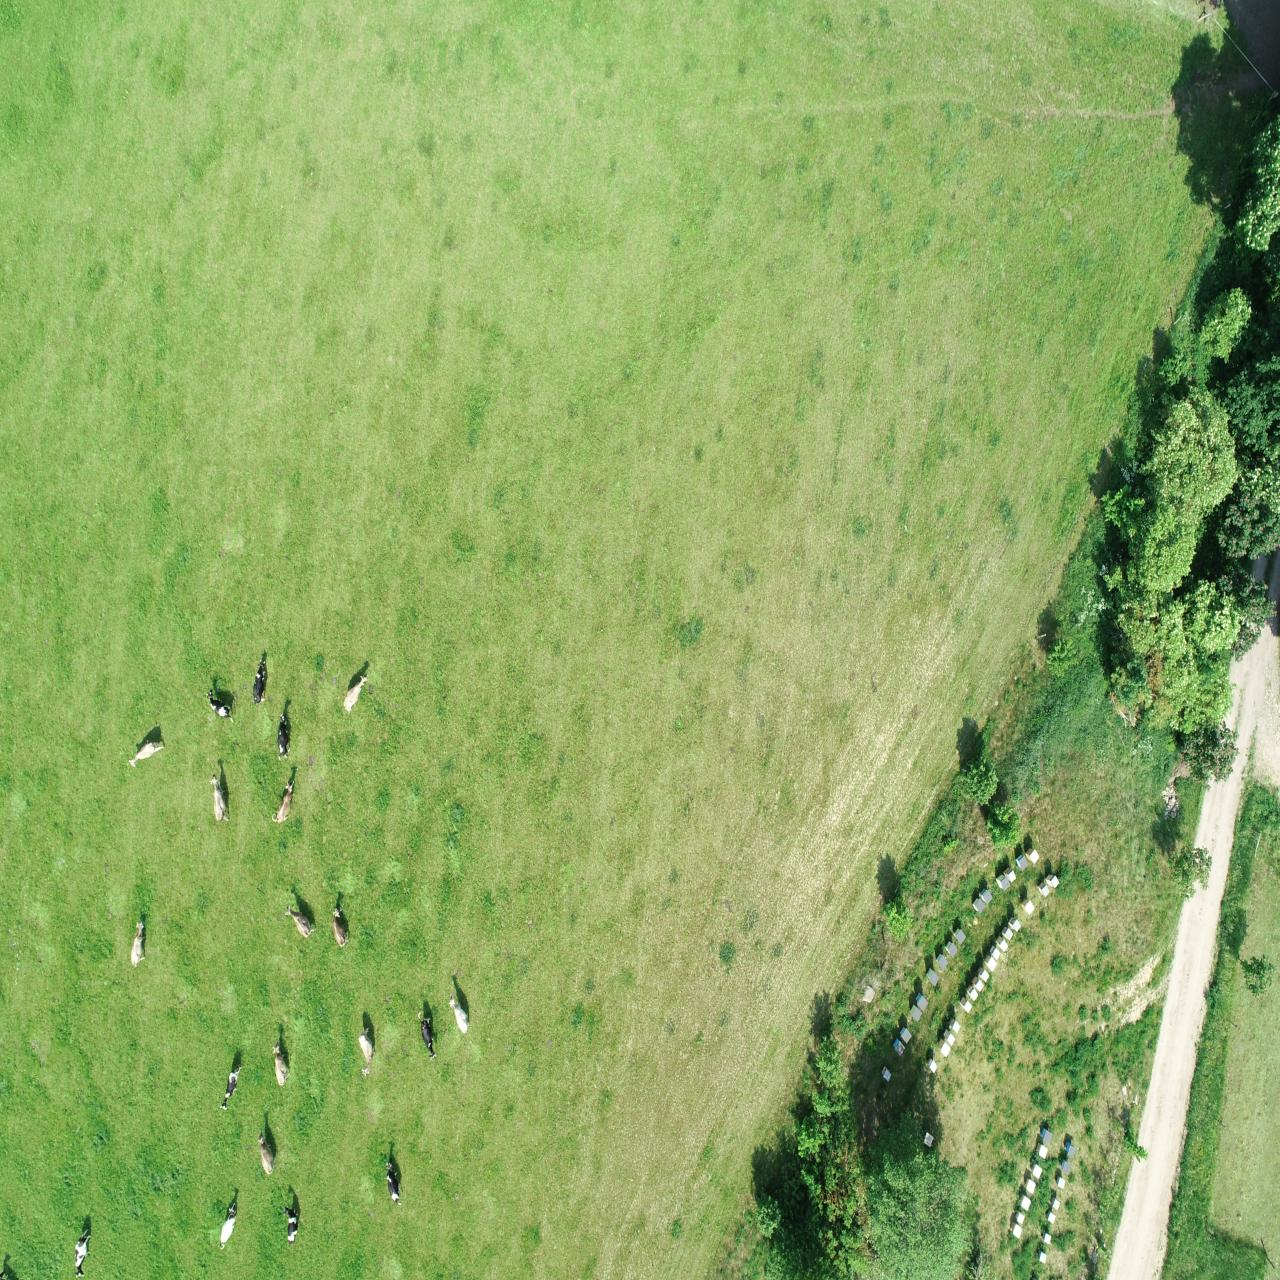cow: (340, 670, 372, 717), (282, 903, 319, 940), (218, 1062, 245, 1112), (271, 777, 297, 829), (204, 687, 234, 730), (125, 737, 166, 769), (414, 1009, 438, 1062), (209, 771, 232, 825), (72, 1225, 94, 1280), (271, 1039, 293, 1092), (127, 918, 149, 972), (257, 1130, 281, 1176), (248, 656, 268, 710), (448, 992, 472, 1035), (217, 1201, 238, 1252), (358, 1024, 376, 1081), (329, 906, 353, 949), (384, 1156, 403, 1210), (275, 710, 293, 763), (282, 1205, 300, 1246)
